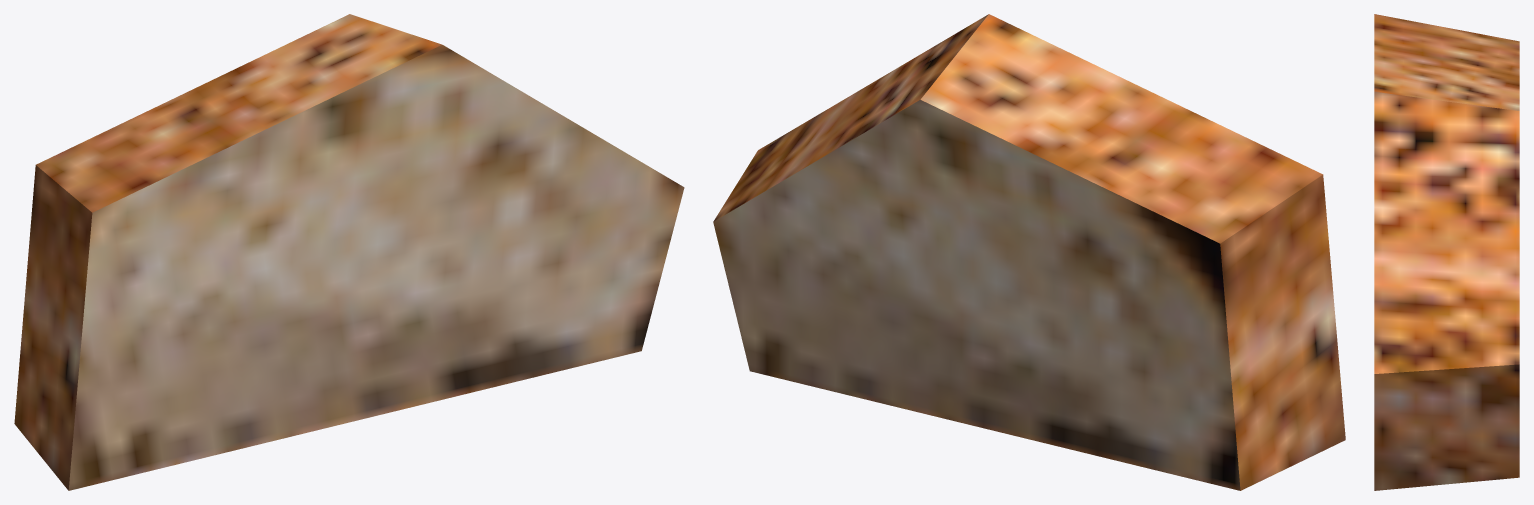
File: Bread01c.obj
3 views of the same model, side by side, from view 1: azimuth 30°, elevation 25°; view 2: azimuth 150°, elevation 25°; view 3: azimuth 270°, elevation 25° (orthographic). The views are drawn at different scales.
Parts seen in each view (by area): view 1: Bread01c; view 2: Bread01c; view 3: Bread01c.
Boxes of the visible parts, x1=… form: Bread01c: x1=14, y1=14, x2=684, y2=490; Bread01c: x1=713, y1=14, x2=1345, y2=490; Bread01c: x1=1374, y1=14, x2=1519, y2=490.
Bounding box in the file's own units: 0.1672 × 0.0921 × 0.0387.
